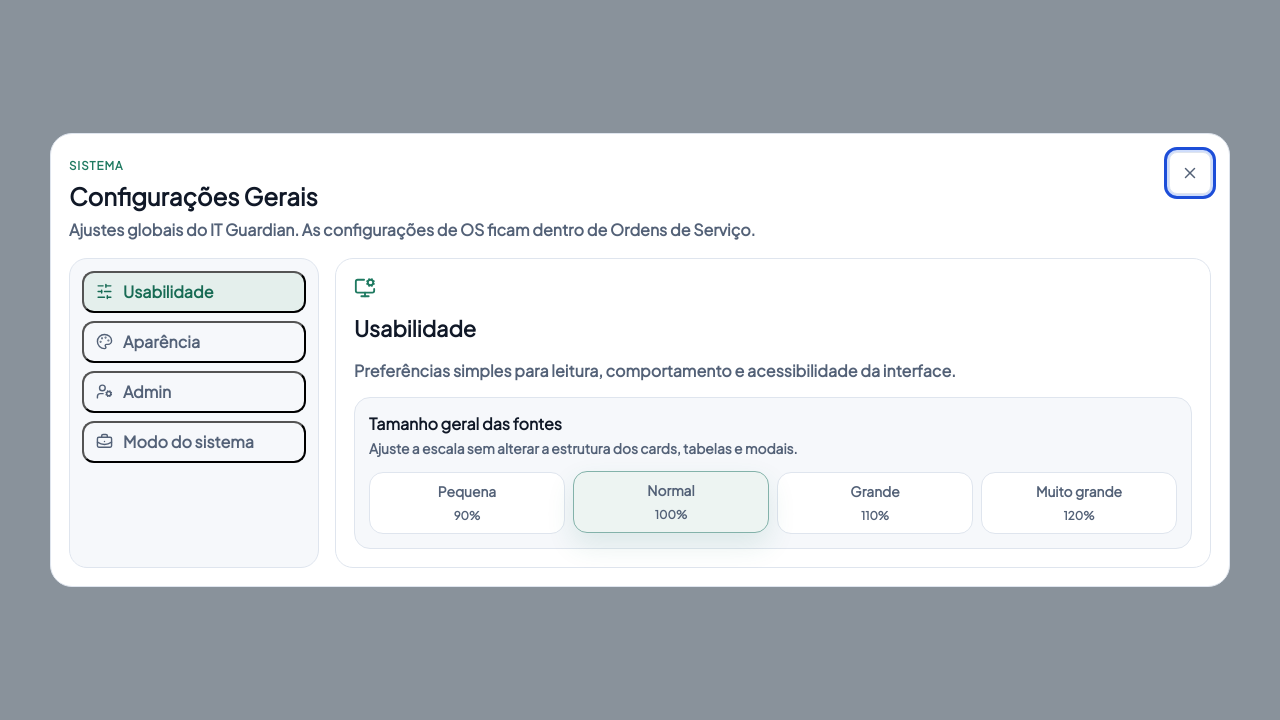
GeneralSettingsModal - admin: usuarios › edita usuario: preenche o formulario, esconde senha, desabilita permissoes de admin e atualiza
Click the button "Admin" at [194, 392], box x1=82 y1=371 x2=306 y2=413
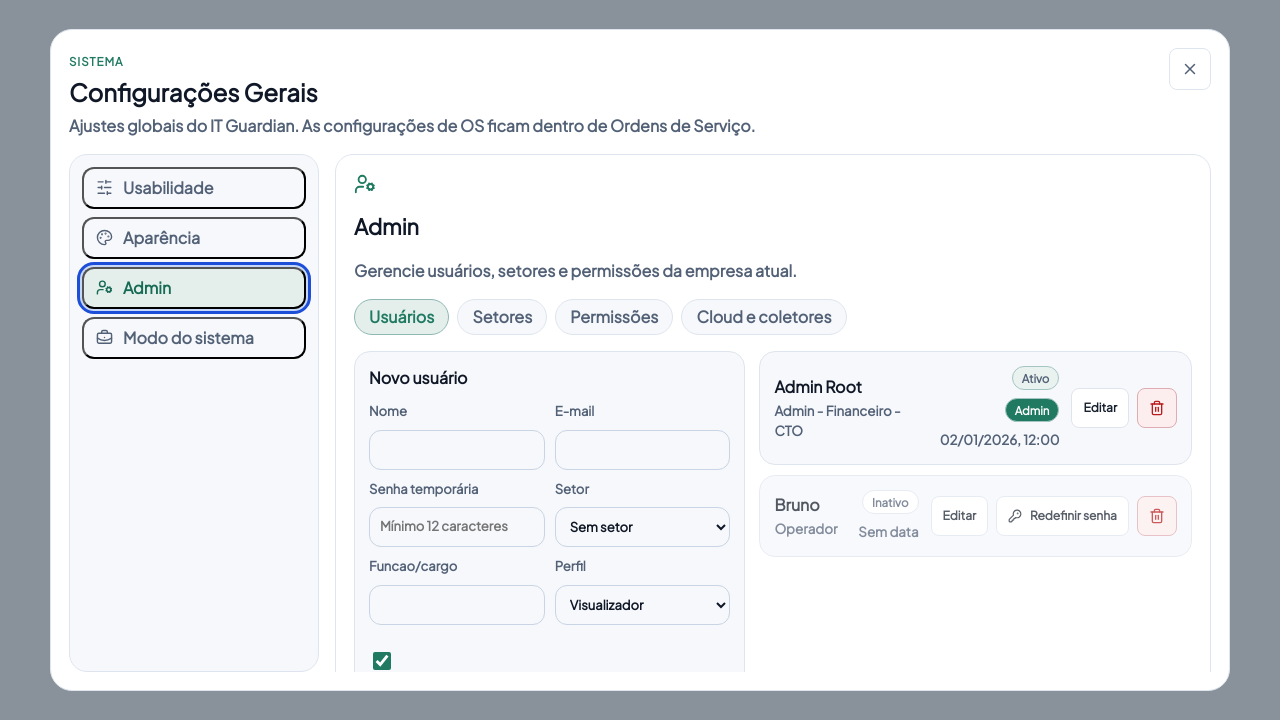
Check: the text "Admin Root" is shown, box x1=774 y1=376 x2=862 y2=397
Click the button "Editar" in the row of "- CTO" at [1100, 408], box x1=1071 y1=388 x2=1129 y2=428
(page scrolled)
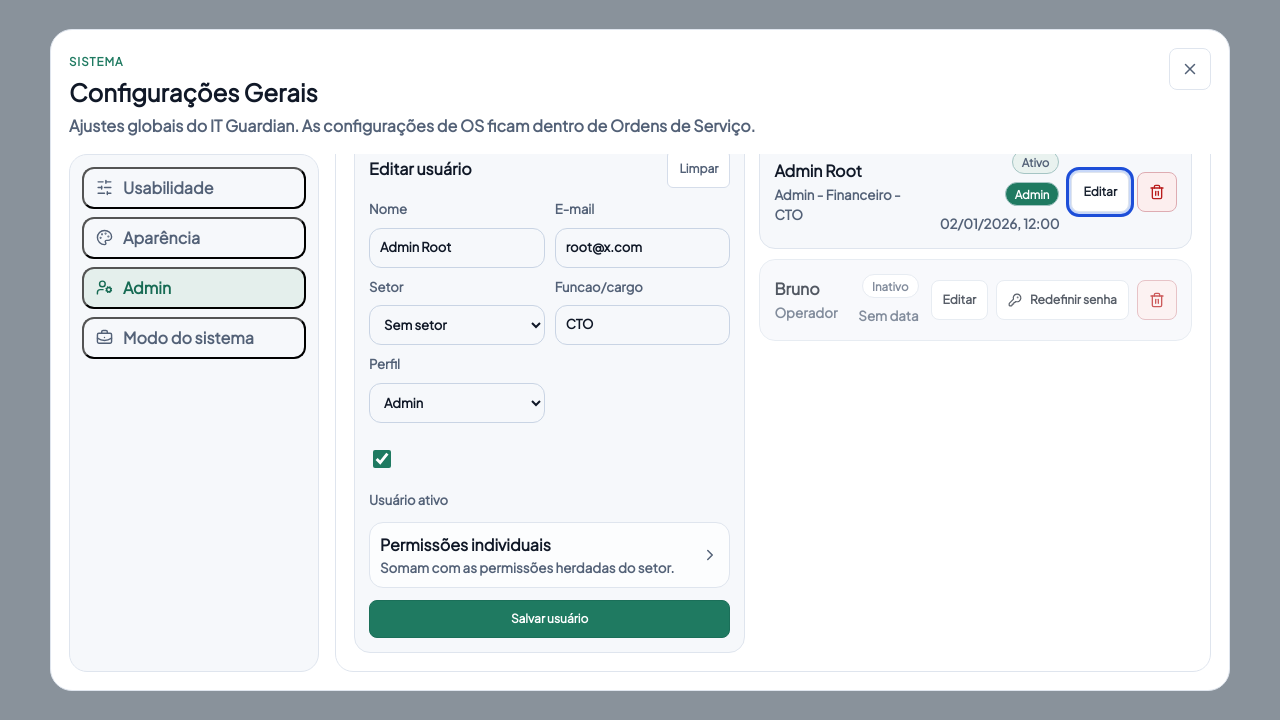
Check: the text "Editar usuário" is shown, box x1=369 y1=157 x2=472 y2=181
Check: the field labelled "Nome" holds "Admin Root", box x1=369 y1=228 x2=545 y2=268
Check: the label labelled "Senha temporária" is gone
Click the button "Permissões individuais" at [550, 555], box x1=380 y1=533 x2=719 y2=576
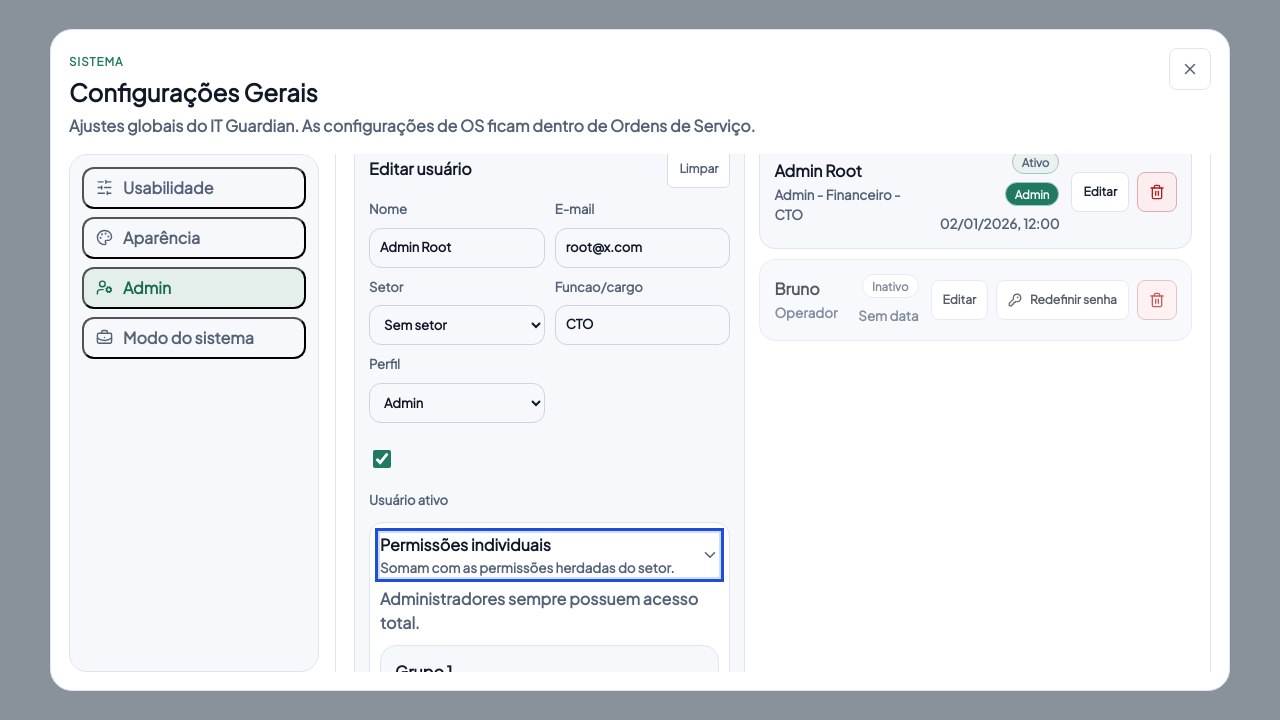
Replace the text in the field labelled "Nome" with "Admin Novo" at [457, 248], box x1=369 y1=228 x2=545 y2=268
(page scrolled)
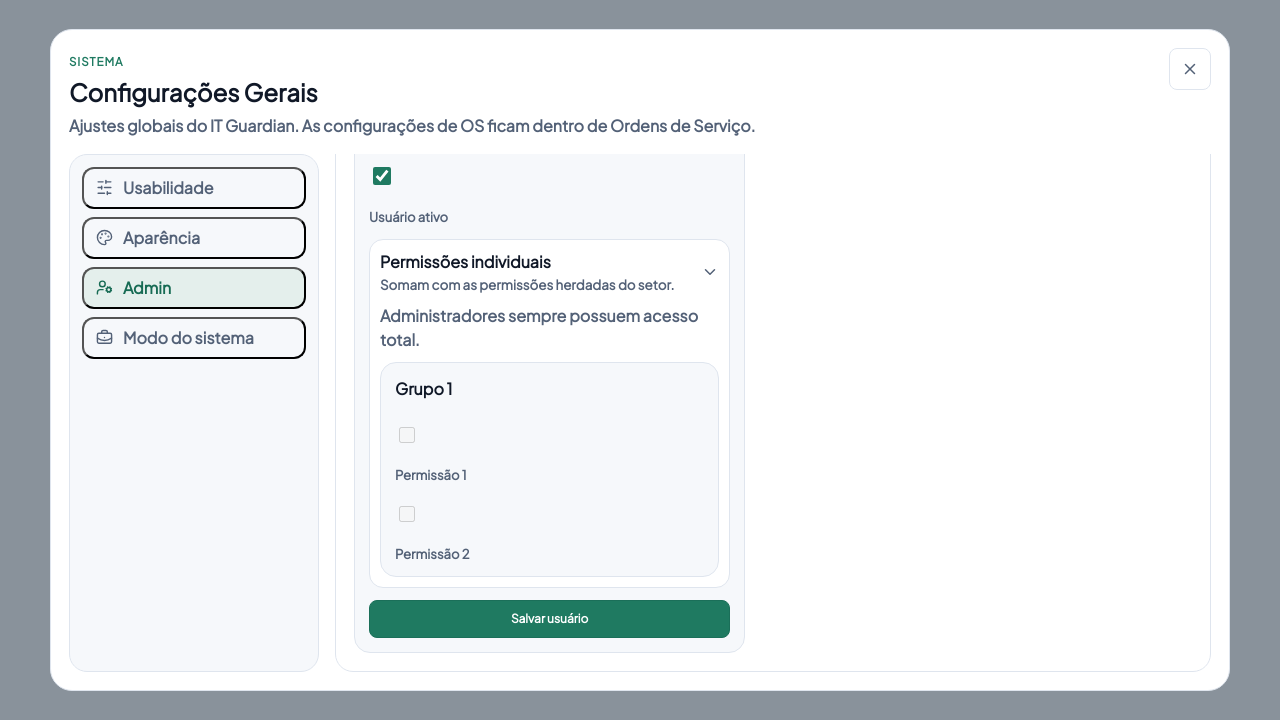
Click the button "Salvar usuário" at [550, 619], box x1=369 y1=600 x2=730 y2=638
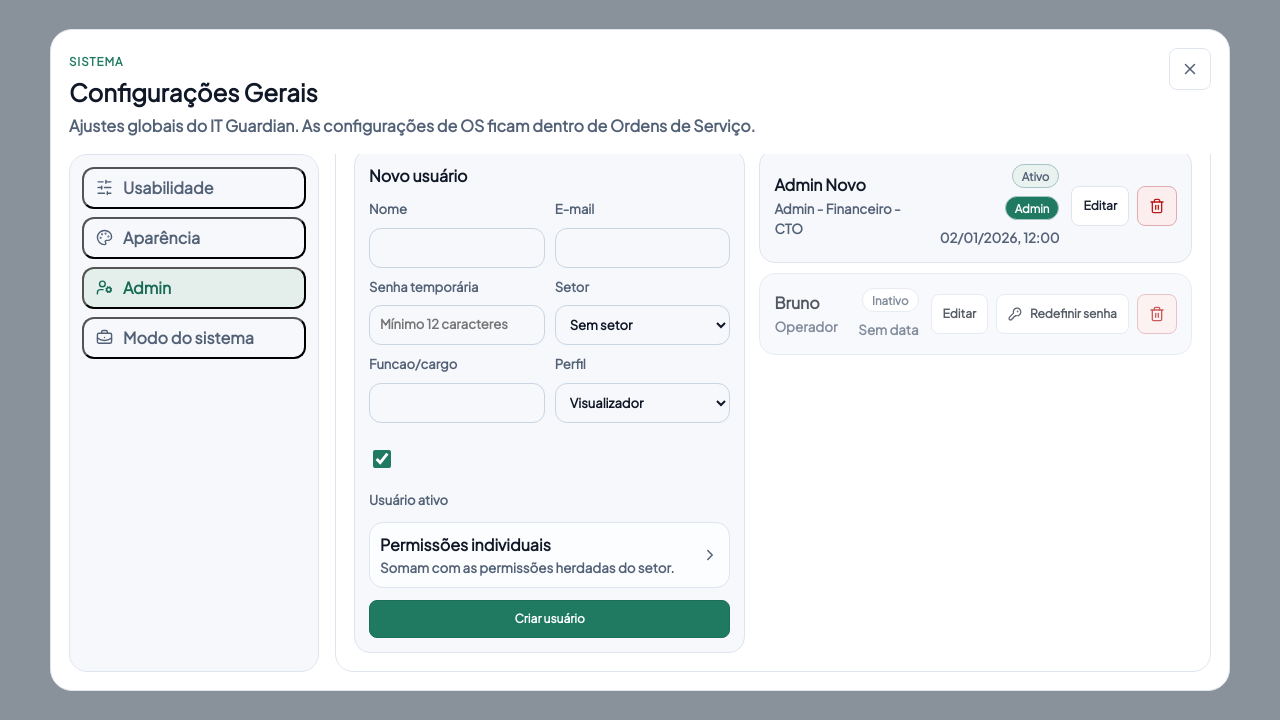
Check: the text "Admin Novo" is shown, box x1=774 y1=174 x2=866 y2=195
Check: the text "Novo usuário" is shown, box x1=369 y1=164 x2=468 y2=188
